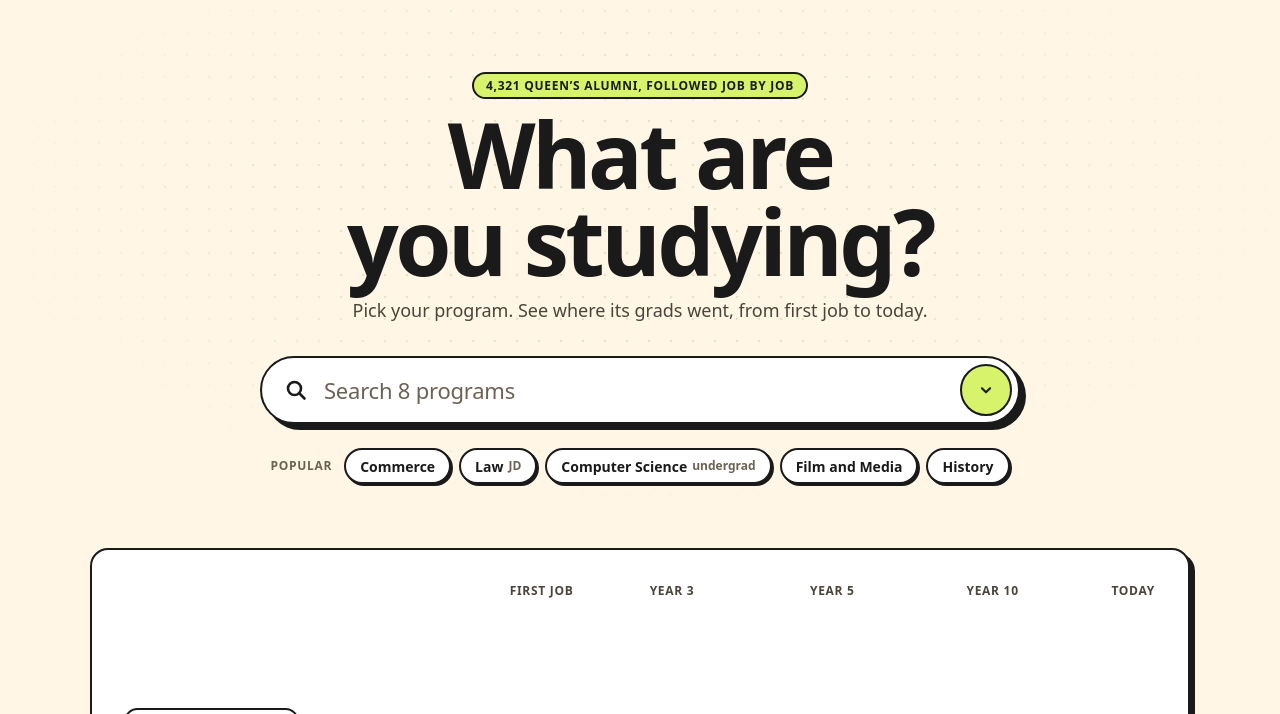
HomeView › sends a program too small for a River to its level’s River, and says so
Expected: the heading "What are you studying?" is shown, [347,92,933,303]
In the dropdown named "Your program": {"x": 640, "y": 390} [260,356,1020,424], type "law"
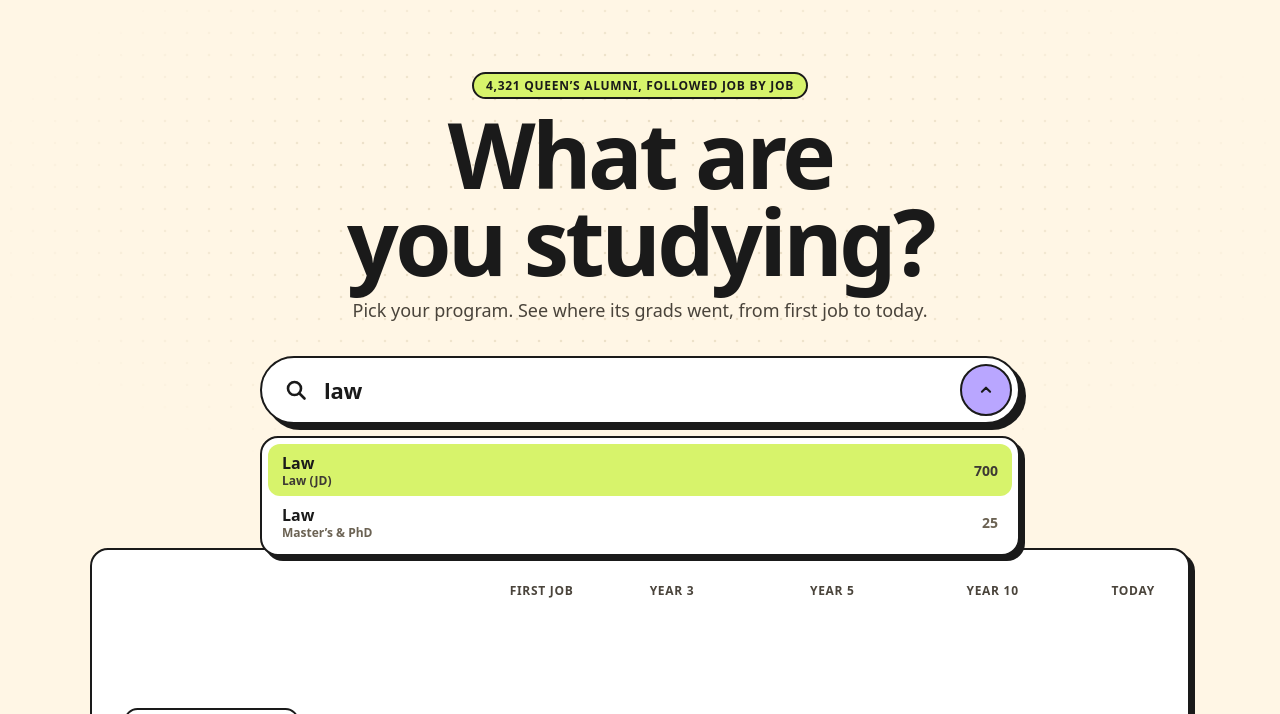
Click the option "Law Master’s & PhD 25": {"x": 298, "y": 515} [268,496,1012,548]
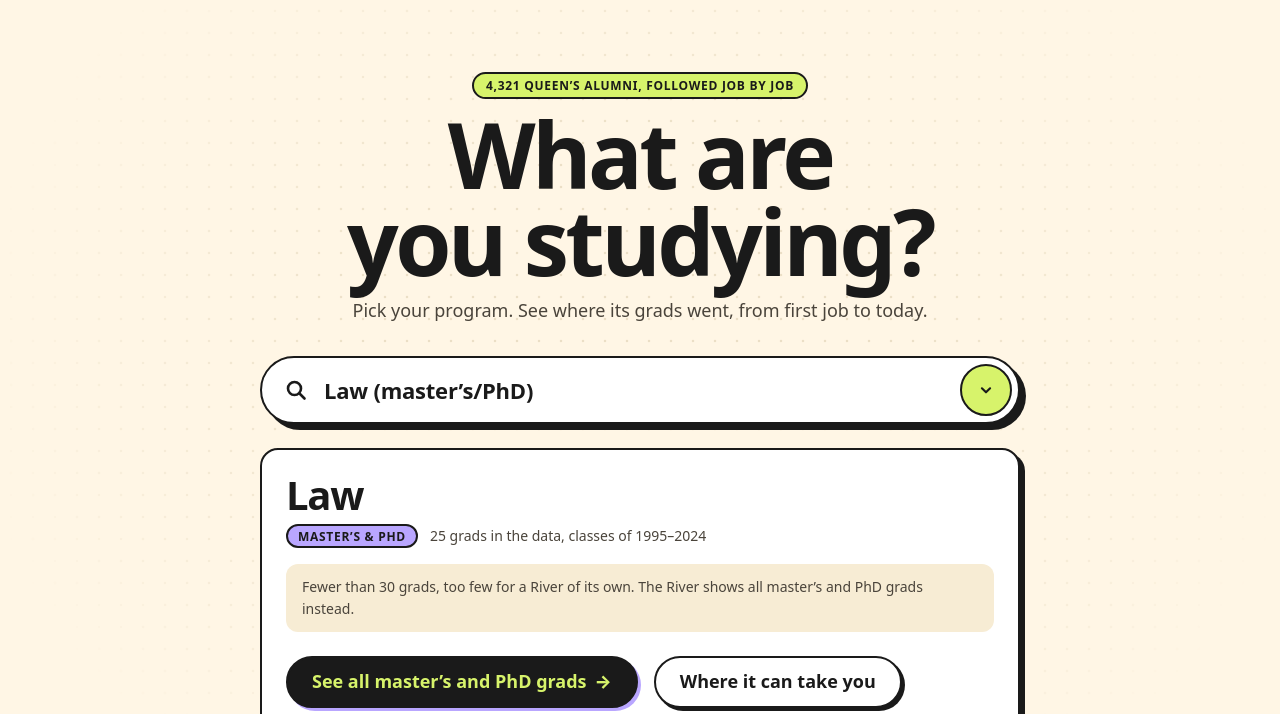
Expected: the element "Law" shows "too few for a River of its own", [395,577,767,596]
Expected: the dropdown named "Your program" holds "Law (master’s/PhD)", [260,356,1020,424]
